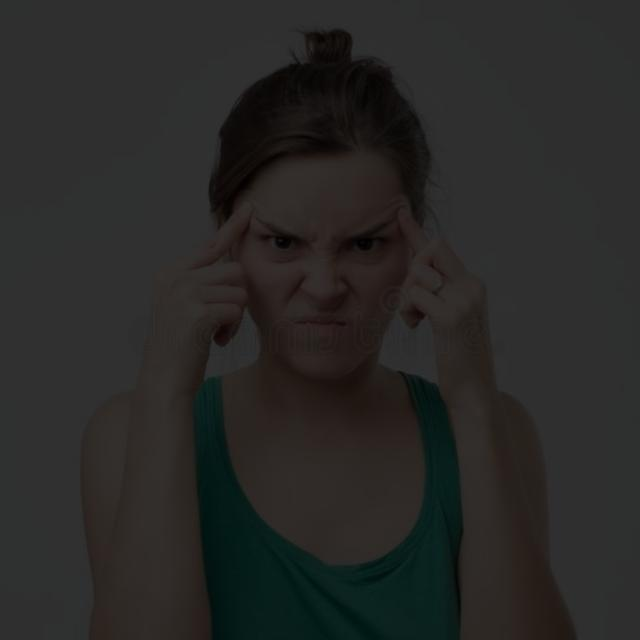Angry: (193, 100, 448, 402)
